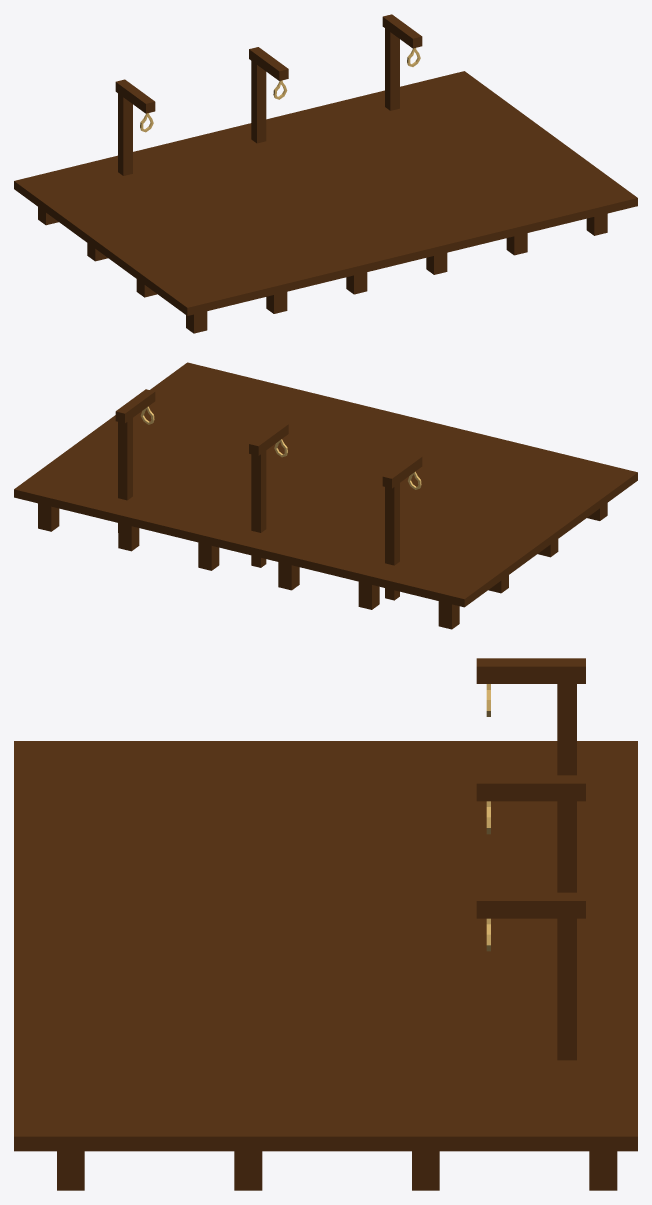
Rendered from Hänkerplatz.fbx.
3 renders of one model, top to bottom at view 1: azimuth 30°, elevation 25°; view 2: azimuth 150°, elevation 25°; view 3: azimuth 270°, elevation 25°, orthographic. The views are drawn at different scales.
Parts seen in each view (by area): view 1: Cube; view 2: Cube; view 3: Cube.
Boxes of the visible parts, box(x1,y1,x2,y2) form: Cube: box(14, 14, 637, 333); Cube: box(14, 362, 637, 629); Cube: box(14, 658, 637, 1190).
Bounding box in the file's own units: 1350 × 365 × 900.
